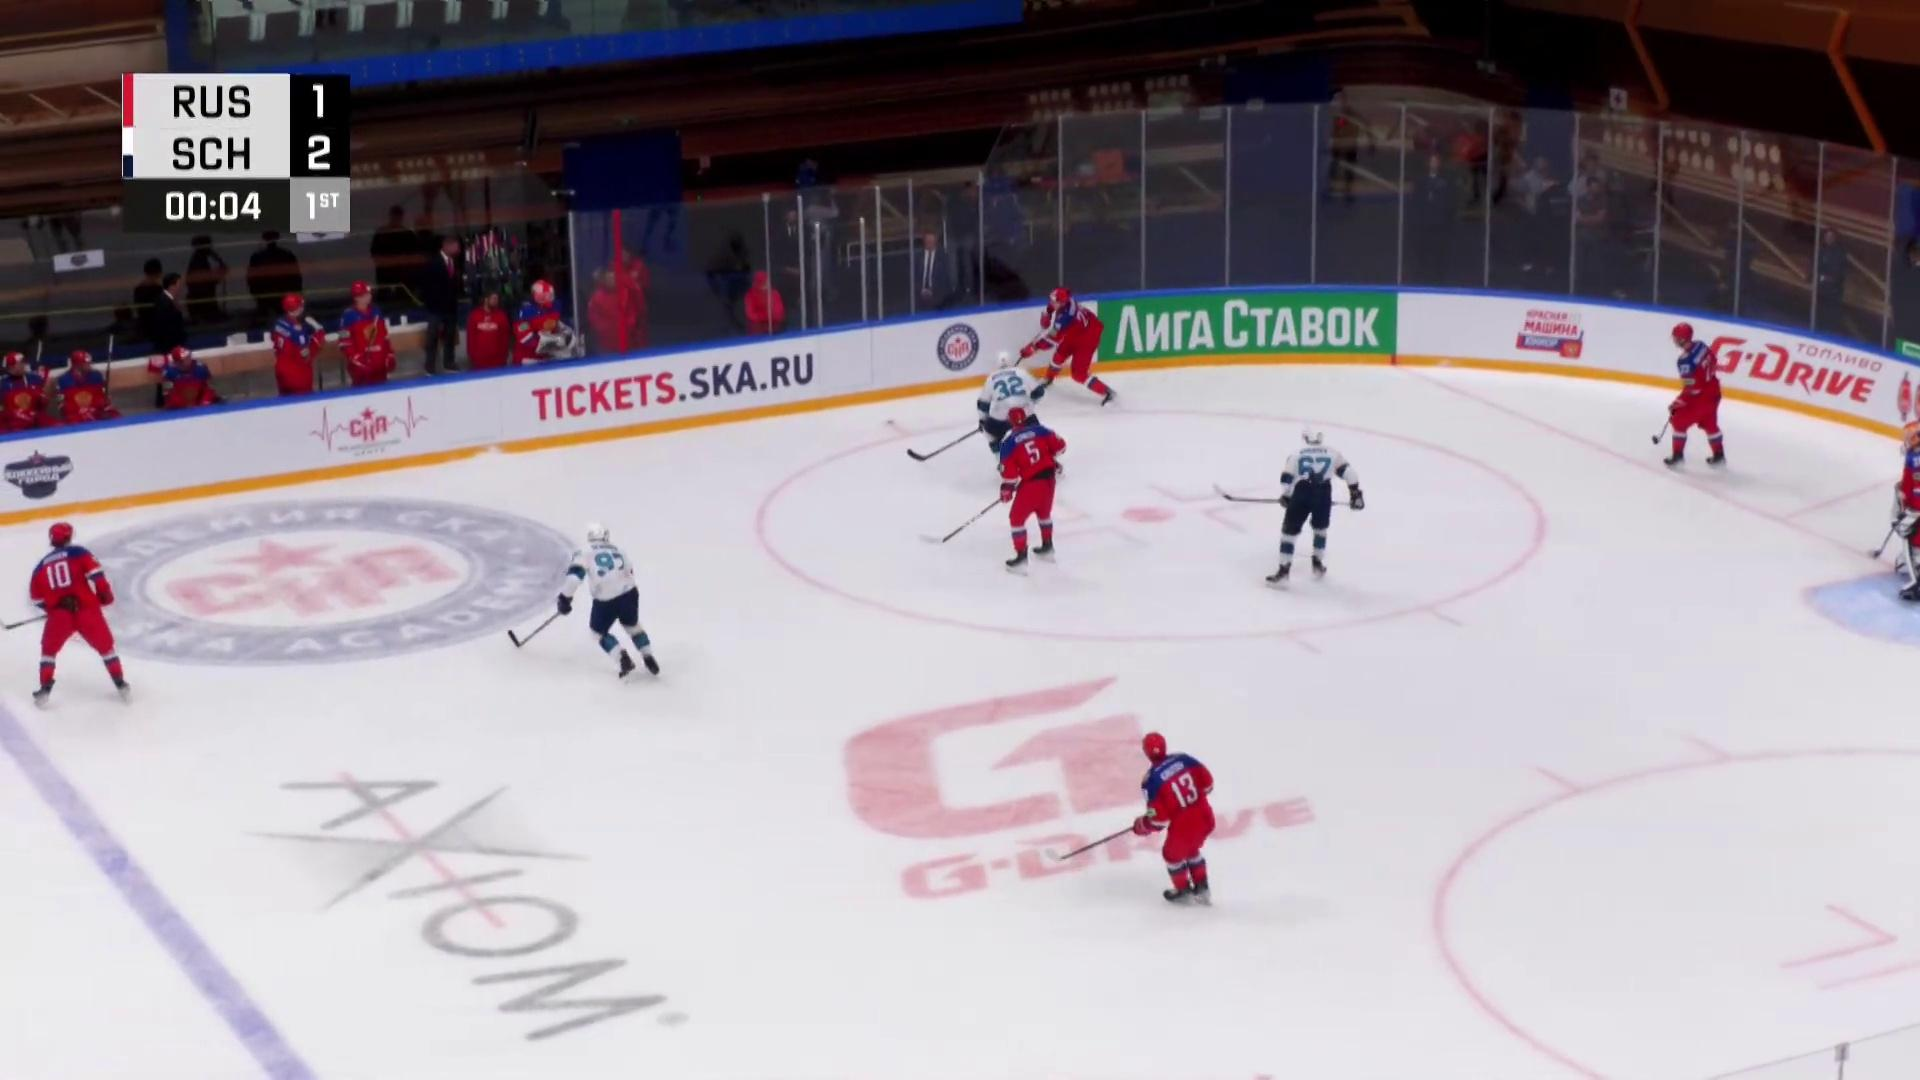ball: (887, 419, 895, 425)
